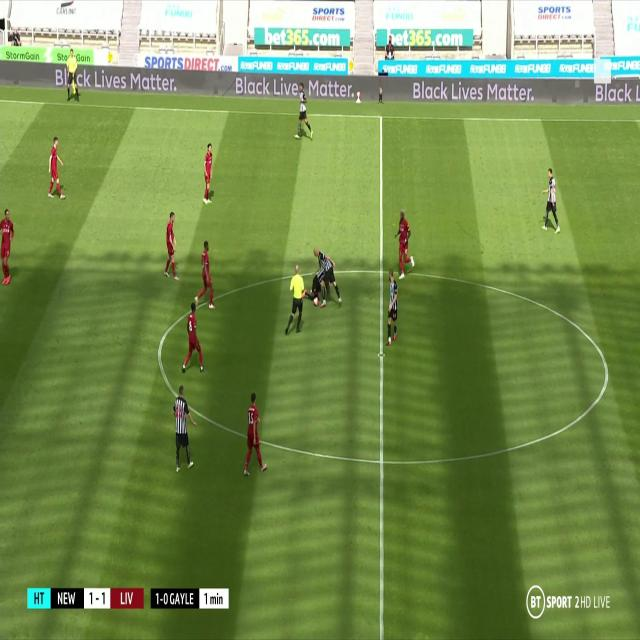ball: (313, 296, 319, 306)
player: (171, 383, 200, 477), (243, 392, 270, 479), (313, 242, 344, 309), (182, 301, 208, 376), (392, 209, 418, 283), (286, 261, 308, 335), (195, 239, 217, 311), (540, 166, 561, 236), (381, 268, 400, 344), (164, 207, 182, 286), (47, 134, 67, 204), (293, 81, 314, 142), (202, 142, 217, 205), (65, 48, 81, 102), (301, 268, 326, 299)
